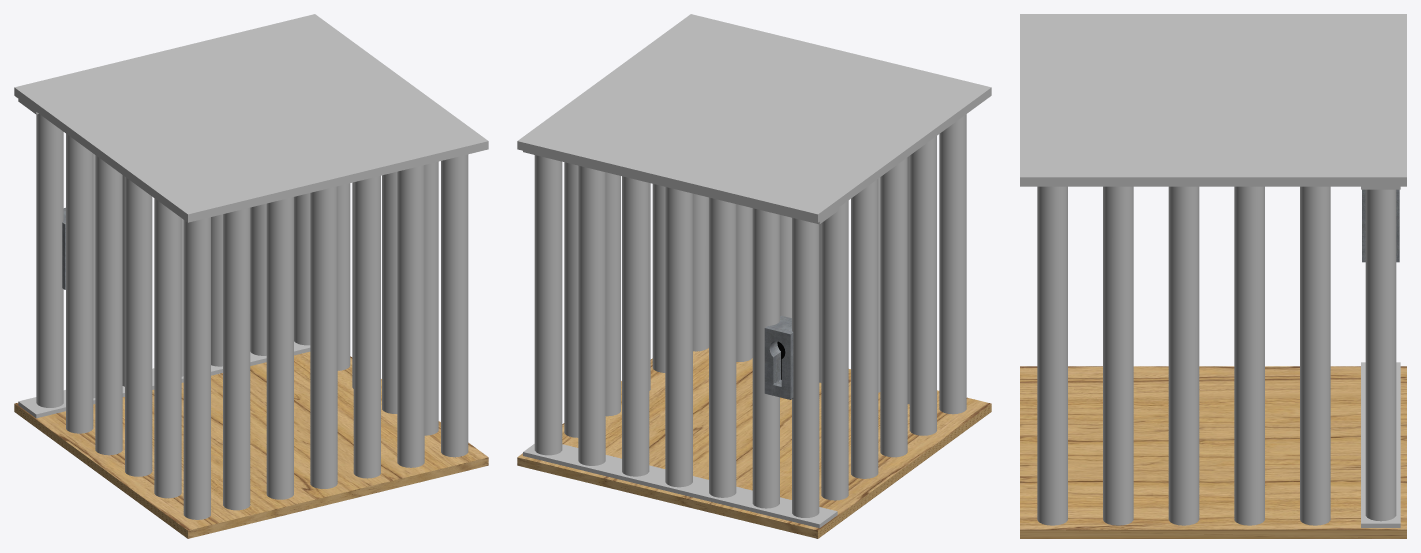
The model's file is Gabia.FBX.
The picture shows the model from 3 angles, left to right: view 1: azimuth 30°, elevation 25°; view 2: azimuth 150°, elevation 25°; view 3: azimuth 270°, elevation 25°; orthographic projection. The views are drawn at different scales.
Parts seen in each view (by area): view 1: Box002, Box001, Cylinder002, Cylinder008, Cylinder019, Cylinder023, Cylinder020, Cylinder021, Cylinder022, Cylinder003, Cylinder005, Cylinder006 (+11 smaller); view 2: Box002, Box001, Cylinder013, Cylinder016, Cylinder015, Cylinder014, Cylinder017, Cylinder007, Cylinder005, Cylinder004, Cylinder002, Cylinder003 (+13 smaller); view 3: Box002, Box001, Cylinder010, Cylinder013, Cylinder009, Cylinder012, Cylinder008, Cylinder011, Box005, Box007.
Part boxes in pixels (x1,y1,x2,y2): Box002: (14,14,488,222); Box001: (14,351,488,538); Cylinder002: (183,217,210,519); Cylinder008: (441,154,468,457); Cylinder019: (397,165,424,467); Cylinder023: (223,207,250,510); Cylinder020: (353,175,380,478); Cylinder021: (310,186,337,488); Cylinder022: (266,197,293,499); Cylinder003: (154,198,181,498); Cylinder005: (95,155,122,455); Cylinder006: (66,134,93,433); Box002: (517,14,991,222); Box001: (517,348,991,538); Cylinder013: (534,155,562,455); Cylinder016: (665,187,692,487); Cylinder015: (622,176,649,476); Cylinder014: (578,165,605,465); Cylinder017: (709,197,736,497); Cylinder007: (792,218,819,517); Cylinder005: (851,179,878,478); Cylinder004: (880,157,907,457); Cylinder002: (939,114,966,414); Cylinder003: (909,136,936,435); Box002: (1020,14,1406,186); Box001: (1020,366,1406,538); Cylinder010: (1168,186,1199,525); Cylinder013: (1365,189,1396,521); Cylinder009: (1103,186,1133,525); Cylinder012: (1300,186,1330,525); Cylinder008: (1037,186,1067,525); Cylinder011: (1234,186,1264,525); Box005: (1361,362,1400,527); Box007: (1362,189,1399,262).
Bounding box in the file's own units: 63.5 × 65.48 × 63.5.
